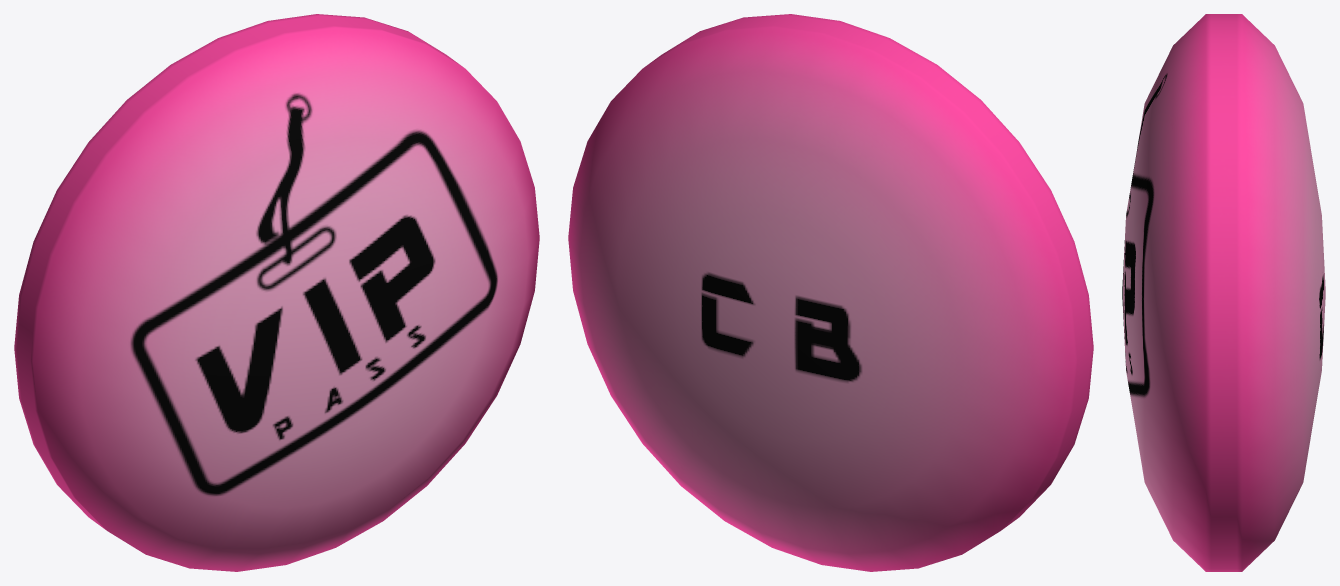
File: Btn_ForgedVIPPass.FBX
The picture shows the model from 3 angles, left to right: view 1: azimuth 30°, elevation 25°; view 2: azimuth 150°, elevation 25°; view 3: azimuth 270°, elevation 25°; orthographic projection. The views are drawn at different scales.
Parts seen in each view (by area): view 1: Pickup_Button1; view 2: Pickup_Button1; view 3: Pickup_Button1.
Part boxes in pixels (bbox=[...]): Pickup_Button1: bbox=[14, 14, 539, 571]; Pickup_Button1: bbox=[568, 14, 1093, 571]; Pickup_Button1: bbox=[1122, 14, 1325, 571].
Size of the model in its own units: 65.32 by 65.32 by 23.82.
